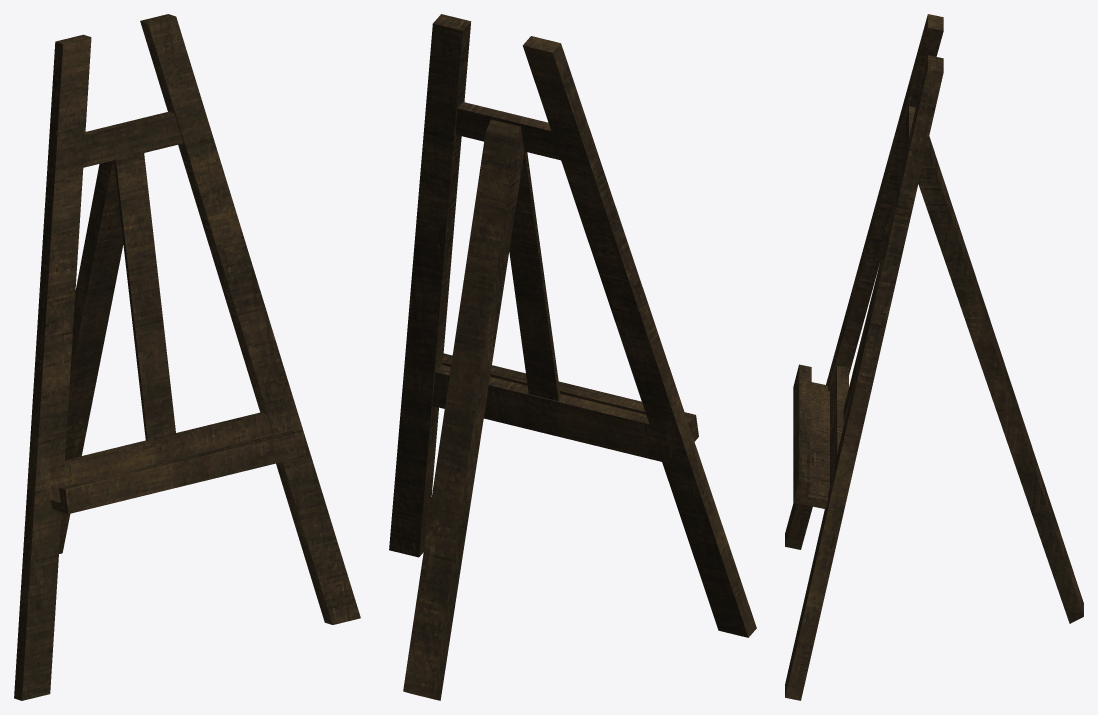
The model's file is easel.glb.
The picture shows the model from 3 angles, left to right: view 1: azimuth 30°, elevation 25°; view 2: azimuth 150°, elevation 25°; view 3: azimuth 270°, elevation 25°; orthographic projection. The views are drawn at different scales.
Visible parts, largest first — view 1: Plane; view 2: Plane; view 3: Plane.
Boxes of the visible parts, <box> form: Plane: <box>14,14,360,700</box>; Plane: <box>389,14,756,700</box>; Plane: <box>785,14,1083,700</box>.
Bounding box in the file's own units: 1.2 × 1.96 × 0.9201.
Materials: 1 (1 with a texture image).
